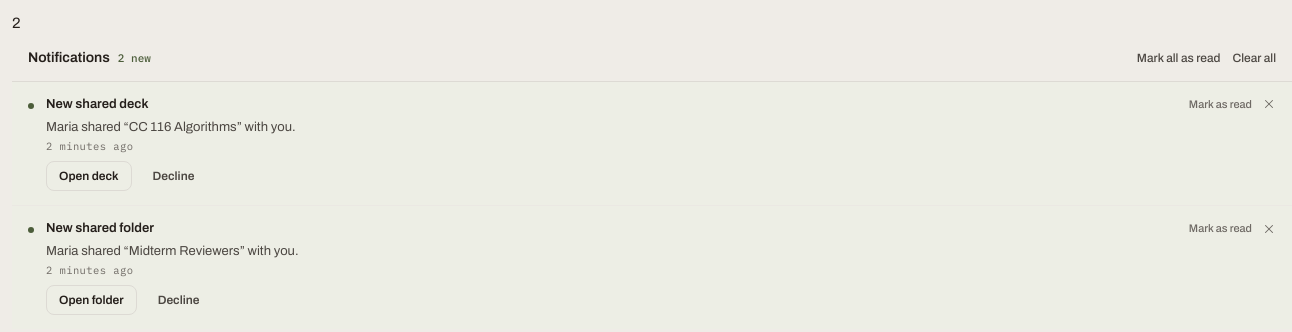
Test: clearing › dismisses one, here at once and from the account
Click the button named "Dismiss": (1269, 104) left=1258, top=94, right=1280, bottom=116
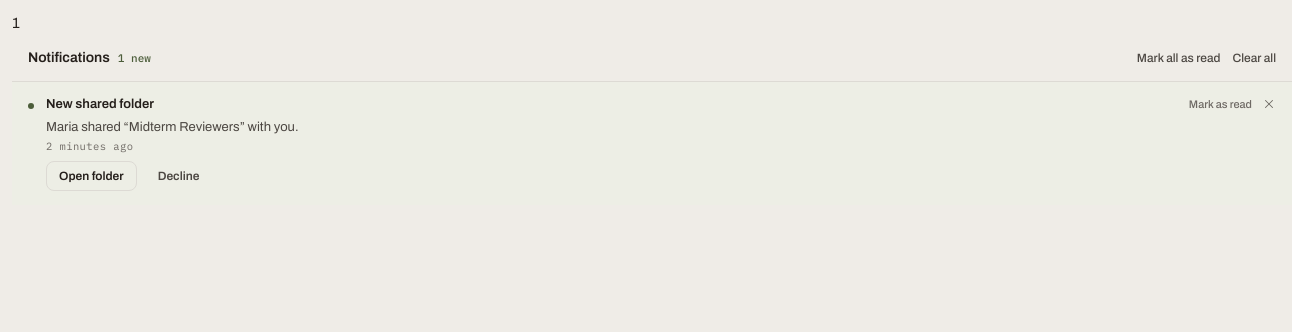
Expected: the text "Maria shared “Midterm Reviewers” with you." is shown, left=46, top=120, right=298, bottom=134
Now the text "Maria shared “CC 116 Algorithms” with you." is gone
